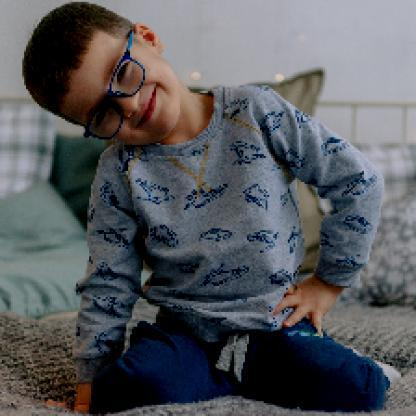child: (22, 1, 397, 415)
